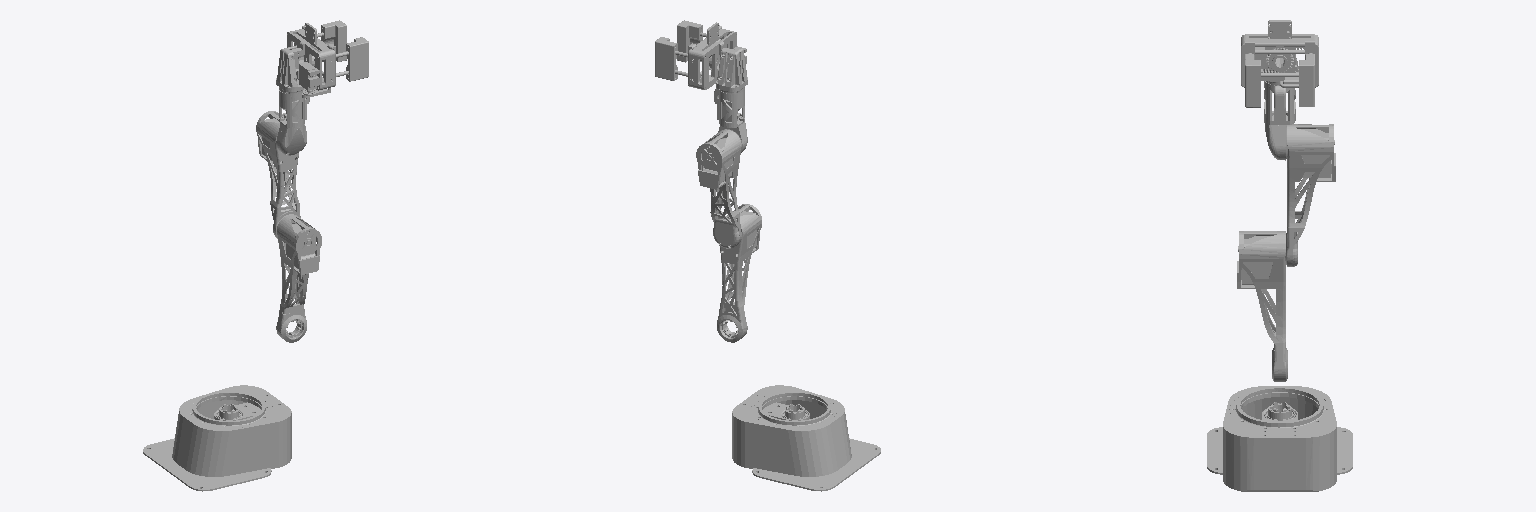
URDF robot description (arm2):
<?xml version="1.0" encoding="utf-8"?>
<!-- This URDF was automatically created by SolidWorks to URDF Exporter! Originally created by [author] ([email redacted]) 
     Commit Version: 1.6.0-4-g7f85cfe  Build Version: 1.6.7995.38578
     For more information, please see http://wiki.ros.org/sw_urdf_exporter -->
<robot
  name="arm2">
  <link
    name="base_link">
    <inertial>
      <origin
        xyz="0.026767 -0.01554 0.075"
        rpy="0 0 0" />
      <mass
        value="0.1883" />
      <inertia
        ixx="0.00029329"
        ixy="-3.3956E-05"
        ixz="-2.6337E-09"
        iyy="0.0005445"
        iyz="7.9205E-10"
        izz="0.0003719" />
    </inertial>
    <visual>
      <origin
        xyz="0 0 0"
        rpy="0 0 0" />
      <geometry>
        <mesh
          filename="package://arm2/meshes/base_link.STL" />
      </geometry>
      <material
        name="">
        <color
          rgba="0.75294 0.75294 0.75294 1" />
      </material>
    </visual>
    <collision>
      <origin
        xyz="0 0 0"
        rpy="0 0 0" />
      <geometry>
        <mesh
          filename="package://arm2/meshes/base_link.STL" />
      </geometry>
    </collision>
  </link>
  <link
    name="1axis_link">
    <inertial>
      <origin
        xyz="0.024565 -0.018868 0.044889"
        rpy="0 0 0" />
      <mass
        value="0.28445" />
      <inertia
        ixx="0.00025925"
        ixy="-6.7497E-05"
        ixz="-3.128E-05"
        iyy="0.0003931"
        iyz="-1.6686E-05"
        izz="0.00041221" />
    </inertial>
    <visual>
      <origin
        xyz="0 0 0"
        rpy="0 0 0" />
      <geometry>
        <mesh
          filename="package://arm2/meshes/1axis_link.STL" />
      </geometry>
      <material
        name="">
        <color
          rgba="0.75294 0.75294 0.75294 1" />
      </material>
    </visual>
    <collision>
      <origin
        xyz="0 0 0"
        rpy="0 0 0" />
      <geometry>
        <mesh
          filename="package://arm2/meshes/1axis_link.STL" />
      </geometry>
    </collision>
  </link>
  <joint
    name="1axis_joint"
    type="fixed">
    <origin
      xyz="0.043828 -0.03 0.081551"
      rpy="1.5708 0 0" />
    <parent
      link="base_link" />
    <child
      link="1axis_link" />
    <axis
      xyz="0 0 0" />
  </joint>
  <link
    name="2axis_link">
    <inertial>
      <origin
        xyz="-0.017555 0.030707 0.045601"
        rpy="0 0 0" />
      <mass
        value="0.07357" />
      <inertia
        ixx="9.8799E-05"
        ixy="1.6011E-09"
        ixz="1.7193E-09"
        iyy="1.3489E-05"
        iyz="-9.0492E-06"
        izz="9.6871E-05" />
    </inertial>
    <visual>
      <origin
        xyz="0 0 0"
        rpy="0 0 0" />
      <geometry>
        <mesh
          filename="package://arm2/meshes/2axis_link.STL" />
      </geometry>
      <material
        name="">
        <color
          rgba="0.75294 0.75294 0.75294 1" />
      </material>
    </visual>
    <collision>
      <origin
        xyz="0 0 0"
        rpy="0 0 0" />
      <geometry>
        <mesh
          filename="package://arm2/meshes/2axis_link.STL" />
      </geometry>
    </collision>
  </link>
  <joint
    name="2axis_joint"
    type="fixed">
    <origin
      xyz="0.083781 0.084651 0.014"
      rpy="0 0 0" />
    <parent
      link="1axis_link" />
    <child
      link="2axis_link" />
    <axis
      xyz="0 0 0" />
  </joint>
  <link
    name="3axis_link">
    <inertial>
      <origin
        xyz="-0.00621176753239523 0.129698878739349 0.0466231996142318"
        rpy="0 0 0" />
      <mass
        value="0.0688781822887198" />
      <inertia
        ixx="7.7091811995459E-05"
        ixy="-2.38270228869103E-09"
        ixz="4.57848363483557E-09"
        iyy="1.3674094164428E-05"
        iyz="-1.10112313838484E-05"
        izz="7.42179805741235E-05" />
    </inertial>
    <visual>
      <origin
        xyz="0 0 0"
        rpy="0 0 0" />
      <geometry>
        <mesh
          filename="package://arm2/meshes/3axis_link.STL" />
      </geometry>
      <material
        name="">
        <color
          rgba="0.752941176470588 0.752941176470588 0.752941176470588 1" />
      </material>
    </visual>
    <collision>
      <origin
        xyz="0 0 0"
        rpy="0 0 0" />
      <geometry>
        <mesh
          filename="package://arm2/meshes/3axis_link.STL" />
      </geometry>
    </collision>
  </link>
  <joint
    name="3axis_joint"
    type="fixed">
    <origin
      xyz="-0.02374 0.027796 0.048773"
      rpy="3.1416 0 3.1416" />
    <parent
      link="2axis_link" />
    <child
      link="3axis_link" />
    <axis
      xyz="0 0 0" />
  </joint>
  <link
    name="4axis_link">
    <inertial>
      <origin
        xyz="-0.0023399 -0.014993 0.010143"
        rpy="0 0 0" />
      <mass
        value="0.028748" />
      <inertia
        ixx="4.9967E-06"
        ixy="-1.0618E-07"
        ixz="7.3428E-10"
        iyy="3.7208E-06"
        iyz="-1.7555E-07"
        izz="6.4557E-06" />
    </inertial>
    <visual>
      <origin
        xyz="0 0 0"
        rpy="0 0 0" />
      <geometry>
        <mesh
          filename="package://arm2/meshes/4axis_link.STL" />
      </geometry>
      <material
        name="">
        <color
          rgba="0.75294 0.75294 0.75294 1" />
      </material>
    </visual>
    <collision>
      <origin
        xyz="0 0 0"
        rpy="0 0 0" />
      <geometry>
        <mesh
          filename="package://arm2/meshes/4axis_link.STL" />
      </geometry>
    </collision>
  </link>
  <joint
    name="4axis_joint"
    type="fixed">
    <origin
      xyz="-0.010546 0.20879 0.027773"
      rpy="3.1416 0 3.1416" />
    <parent
      link="3axis_link" />
    <child
      link="4axis_link" />
    <axis
      xyz="0 0 0" />
  </joint>
  <link
    name="Gaxis_link">
    <inertial>
      <origin
        xyz="-0.0088619 0.0055892 0.0029626"
        rpy="0 0 0" />
      <mass
        value="0.10071" />
      <inertia
        ixx="4.2658E-05"
        ixy="-1.1309E-06"
        ixz="7.6585E-07"
        iyy="2.6015E-05"
        iyz="-5.1078E-07"
        izz="2.8736E-05" />
    </inertial>
    <visual>
      <origin
        xyz="0 0 0"
        rpy="0 0 0" />
      <geometry>
        <mesh
          filename="package://arm2/meshes/Gaxis_link.STL" />
      </geometry>
      <material
        name="">
        <color
          rgba="0.75294 0.75294 0.75294 1" />
      </material>
    </visual>
    <collision>
      <origin
        xyz="0 0 0"
        rpy="0 0 0" />
      <geometry>
        <mesh
          filename="package://arm2/meshes/Gaxis_link.STL" />
      </geometry>
    </collision>
  </link>
  <joint
    name="Gaxis_joint"
    type="fixed">
    <origin
      xyz="0.019389 0.048734 0.0065261"
      rpy="1.5708 0 3.1416" />
    <parent
      link="4axis_link" />
    <child
      link="Gaxis_link" />
    <axis
      xyz="0 0 0" />
  </joint>
</robot>

--- What the picture shows (computed from the rendered views, not written in the file) ---
Views: 3 orthographic renders of the robot side by side, from view 1: azimuth 30°, elevation 25°; view 2: azimuth 150°, elevation 25°; view 3: azimuth 270°, elevation 25°.
Model arm2 with 6 links and 5 joints (5 fixed), rooted at base_link, posed all joints at 0.
Links seen in each view (by area): view 1: base_link, Gaxis_link, 2axis_link, 3axis_link, 4axis_link; view 2: base_link, Gaxis_link, 3axis_link, 2axis_link, 4axis_link; view 3: base_link, Gaxis_link, 2axis_link, 3axis_link, 4axis_link.
Boxes of the visible links, left/top/right/bottom form: base_link: left=143, top=385, right=291, bottom=491; Gaxis_link: left=276, top=20, right=368, bottom=97; 2axis_link: left=276, top=215, right=321, bottom=342; 3axis_link: left=256, top=111, right=300, bottom=238; 4axis_link: left=276, top=90, right=309, bottom=155; base_link: left=732, top=385, right=880, bottom=491; Gaxis_link: left=655, top=20, right=747, bottom=93; 3axis_link: left=696, top=129, right=741, bottom=248; 2axis_link: left=717, top=204, right=761, bottom=342; 4axis_link: left=714, top=88, right=747, bottom=152; base_link: left=1207, top=386, right=1352, bottom=491; Gaxis_link: left=1241, top=20, right=1318, bottom=107; 2axis_link: left=1237, top=231, right=1287, bottom=381; 3axis_link: left=1285, top=124, right=1335, bottom=266; 4axis_link: left=1264, top=81, right=1295, bottom=160.
Bounding box of the posed robot: 0.2645 × 0.15 × 0.5534 m (x, y, z).
Meshes: 6 distinct files referenced, 5 mesh visuals loaded (5 binary STL); not drawn: 1 (reference not matched to a file when rendering).